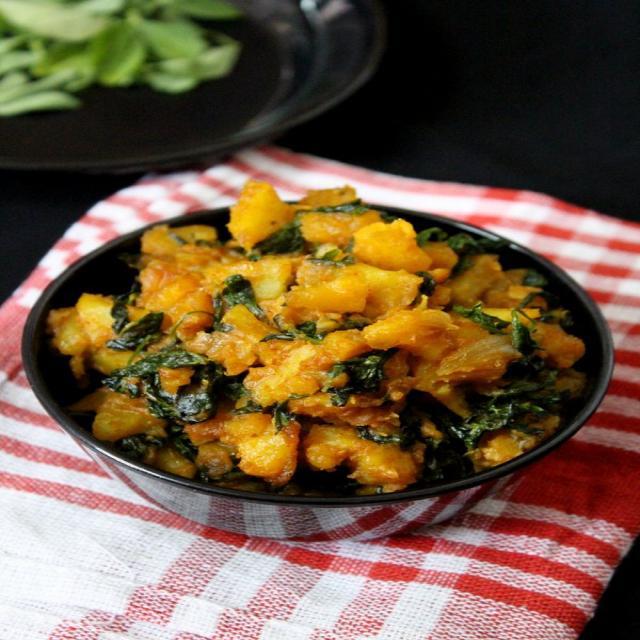Aloo Methi: (46, 176, 588, 493)
